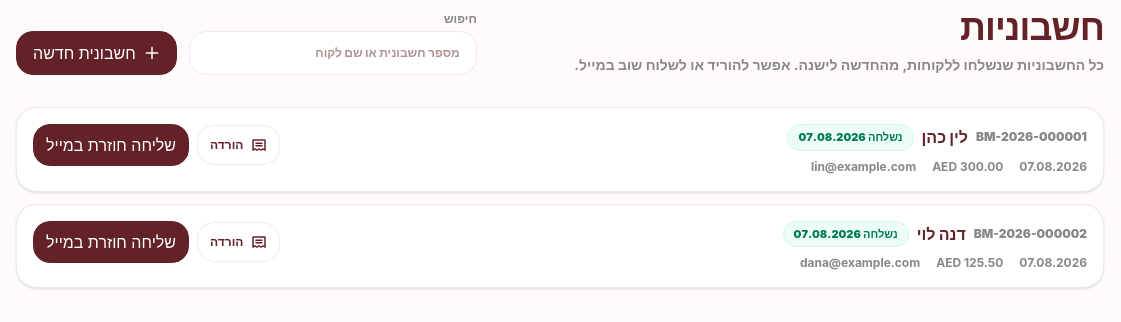
InvoicesScreen › resends a single invoice and confirms which address it went to
This screenshot has width=1121, height=322.
Click the button with aria-label "שליחה חוזרת של חשבונית BM-2026-000001". click: [111, 145]
box: [33,124,189,166]
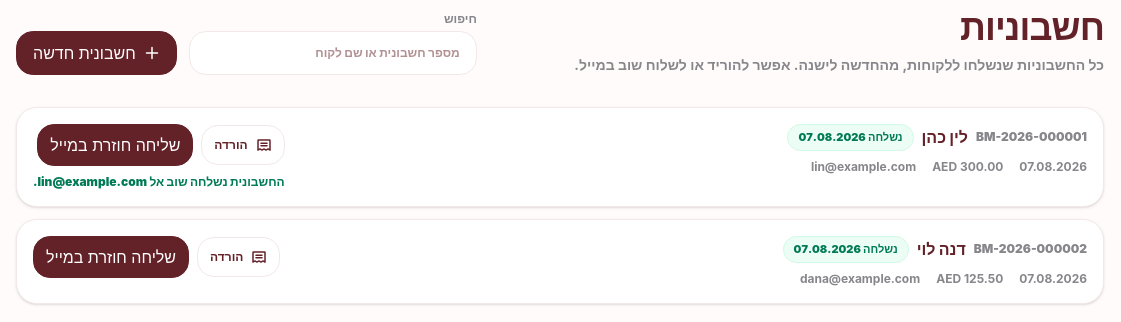
Check: the message reads "החשבונית נשלחה שוב אל lin@example.com.", box [33,174,285,189]
